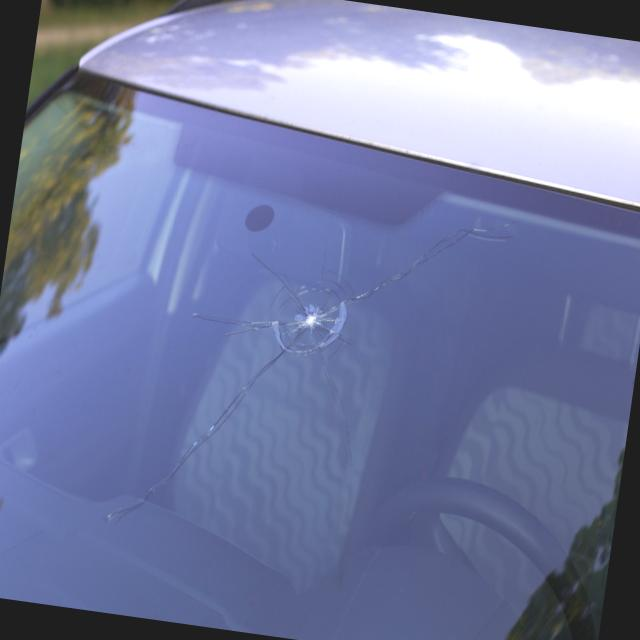Fissure: (86, 146, 524, 608)
